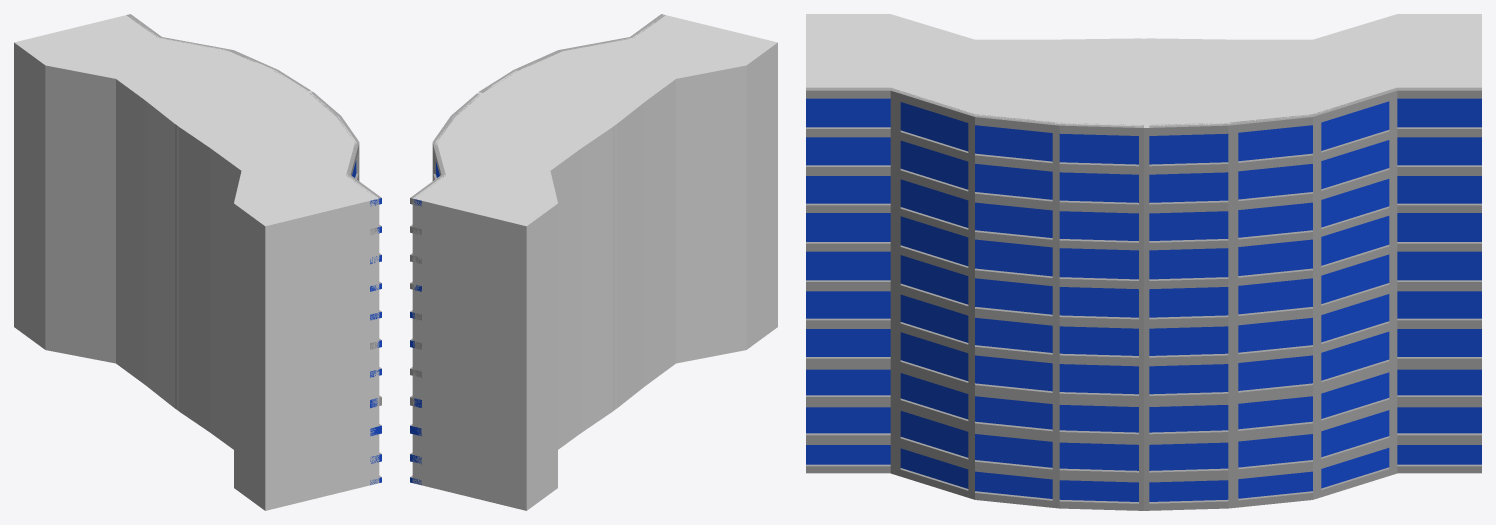
Rendered from 米中央窓データ.fbx.
The picture shows the model from 3 angles, left to right: view 1: azimuth 30°, elevation 25°; view 2: azimuth 150°, elevation 25°; view 3: azimuth 270°, elevation 25°; orthographic projection. The views are drawn at different scales.
Visible parts, largest first — view 1: Cube; view 2: Cube; view 3: Cube.
Boxes of the visible parts, x1,y1,x2,y2 form: Cube: (14,14,381,510); Cube: (410,14,777,510); Cube: (806,14,1481,510).
Size of the model in its own units: 12.78 by 20 by 32.
